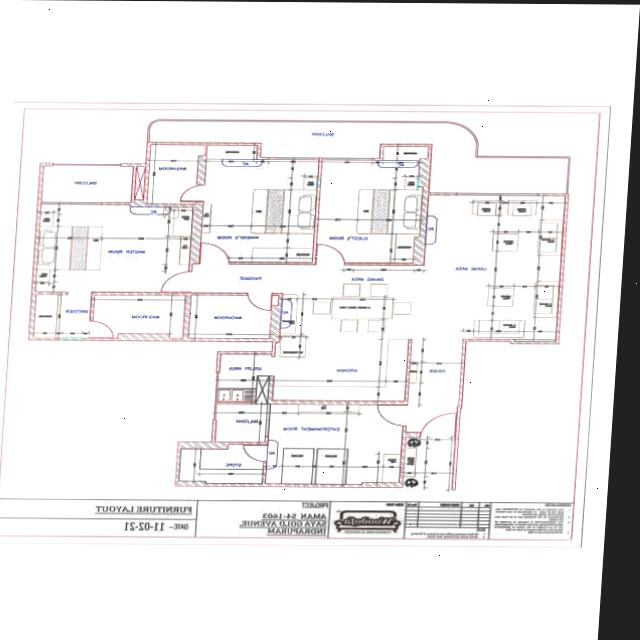room: (149, 121, 568, 194), (217, 293, 409, 403), (423, 195, 565, 340), (201, 144, 319, 267), (36, 205, 193, 293), (316, 145, 428, 264), (266, 404, 404, 485), (35, 294, 186, 339), (188, 295, 272, 339), (147, 145, 206, 204), (41, 166, 133, 203), (180, 444, 265, 483), (215, 403, 269, 442)
